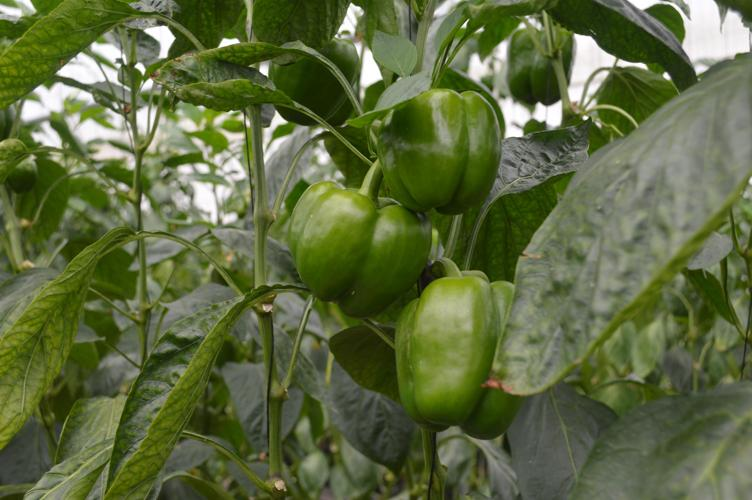BellPepper: (396, 276, 529, 435), (288, 175, 432, 316), (377, 89, 505, 217), (262, 39, 378, 141), (499, 21, 590, 108)
